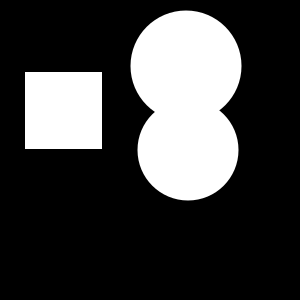circle: (25, 72, 102, 149)
rectangle: (130, 11, 241, 122), (138, 100, 238, 200)
